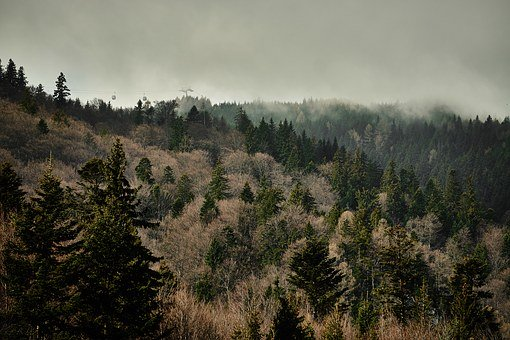forest: (4, 59, 428, 340)
mountain: (11, 97, 491, 340)
sky: (2, 3, 509, 103)
